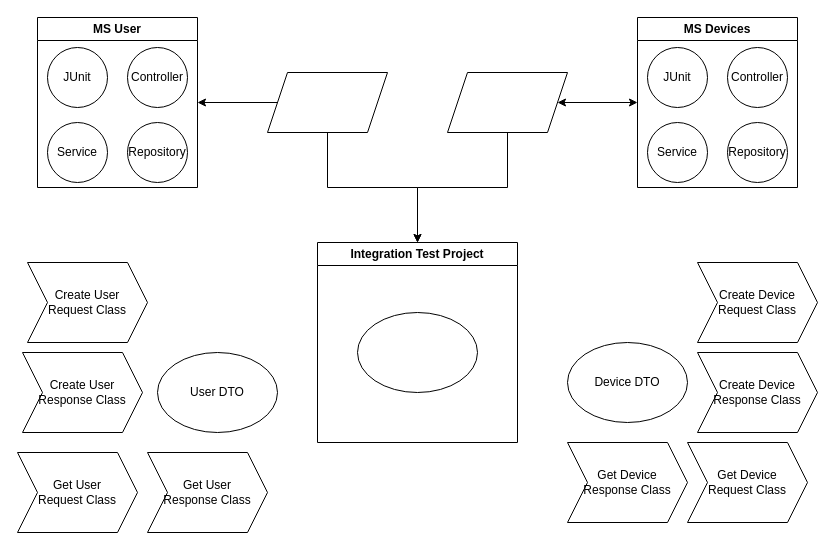
Image size: 835x550. Some labels were removed from this diagram. Here are the shapes that lost their labels. From the top down, the centre of each, then its label:
At pixel 327 102: "Shared Lib MS User".
At pixel 507 102: "Shared Lib MS Devices".
At pixel 417 352: "Integration Test".
